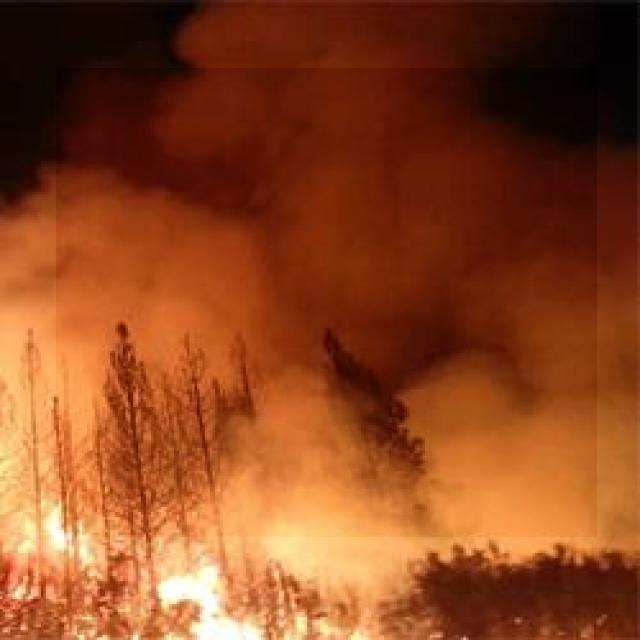Smoke: (56, 68, 597, 537)
